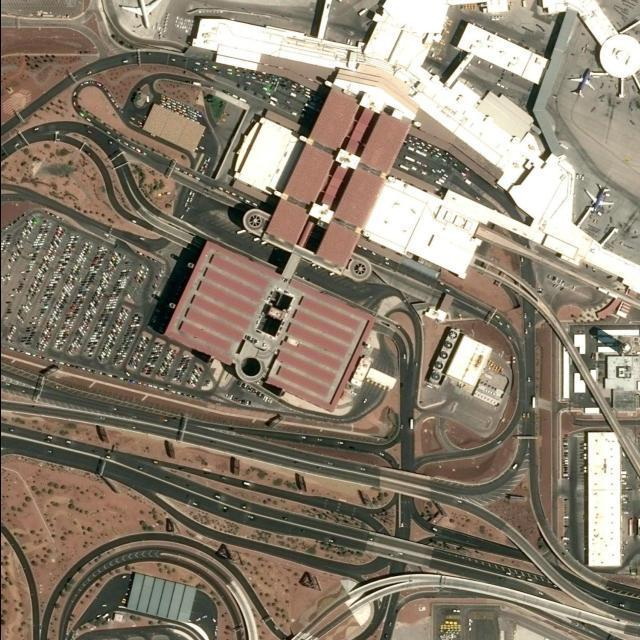Aircraft: (115, 0, 161, 28), (581, 182, 614, 214), (565, 65, 596, 99)
